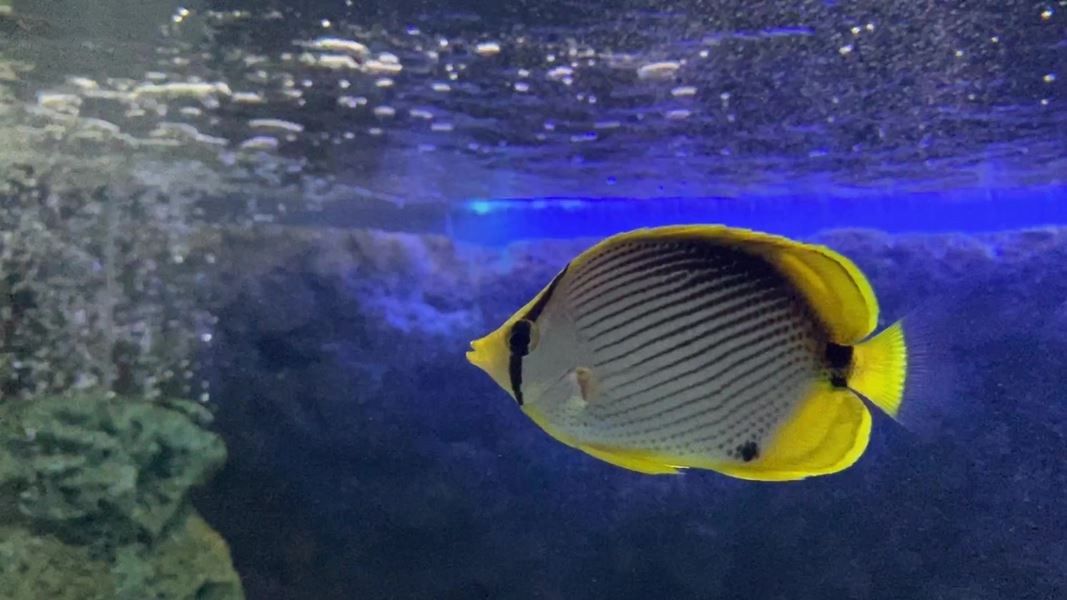Black-backed butterflyfish: (457, 210, 979, 498)
